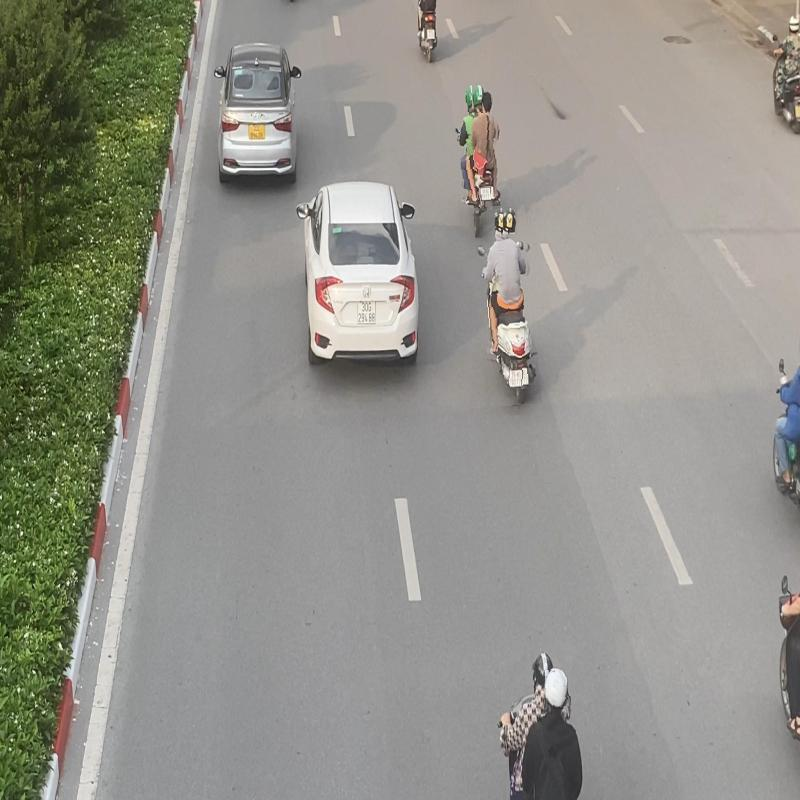helmet: (543, 666, 570, 708), (532, 652, 556, 688), (503, 206, 517, 234), (472, 84, 485, 109)
licenseplate: (509, 368, 523, 388), (480, 187, 491, 201)
motorcyclist: (478, 206, 538, 406), (454, 82, 504, 237)
nohelmet: (481, 90, 493, 113)
